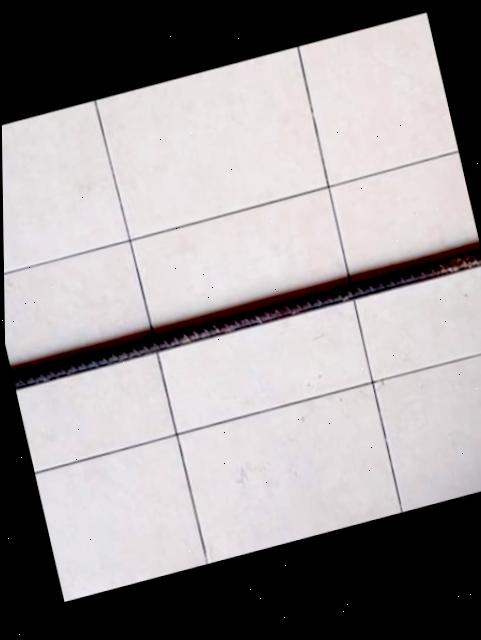crow bar: (3, 226, 481, 410)
